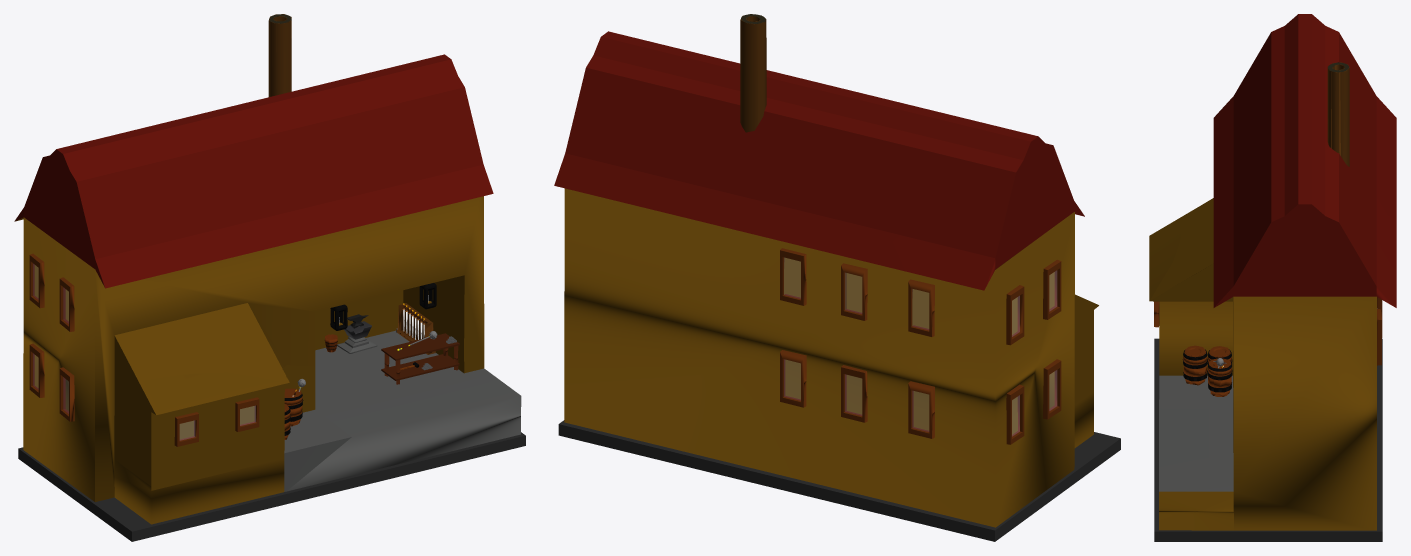
The model's file is BlackSmith.fbx.
The picture shows the model from 3 angles, left to right: view 1: azimuth 30°, elevation 25°; view 2: azimuth 150°, elevation 25°; view 3: azimuth 270°, elevation 25°; orthographic projection. The views are drawn at different scales.
Parts seen in each view (by area): view 1: Cube, Cube.005; view 2: Cube, Cube.005; view 3: Cube, Cube.005.
Boxes of the visible parts, x1,y1,x2,y2 form: Cube: (14, 14, 521, 524); Cube.005: (18, 432, 525, 541); Cube: (554, 14, 1098, 527); Cube.005: (558, 420, 1120, 541); Cube: (1149, 14, 1396, 530); Cube.005: (1154, 338, 1382, 541).
Size of the model in its own units: 4042 by 3858 by 2167.
